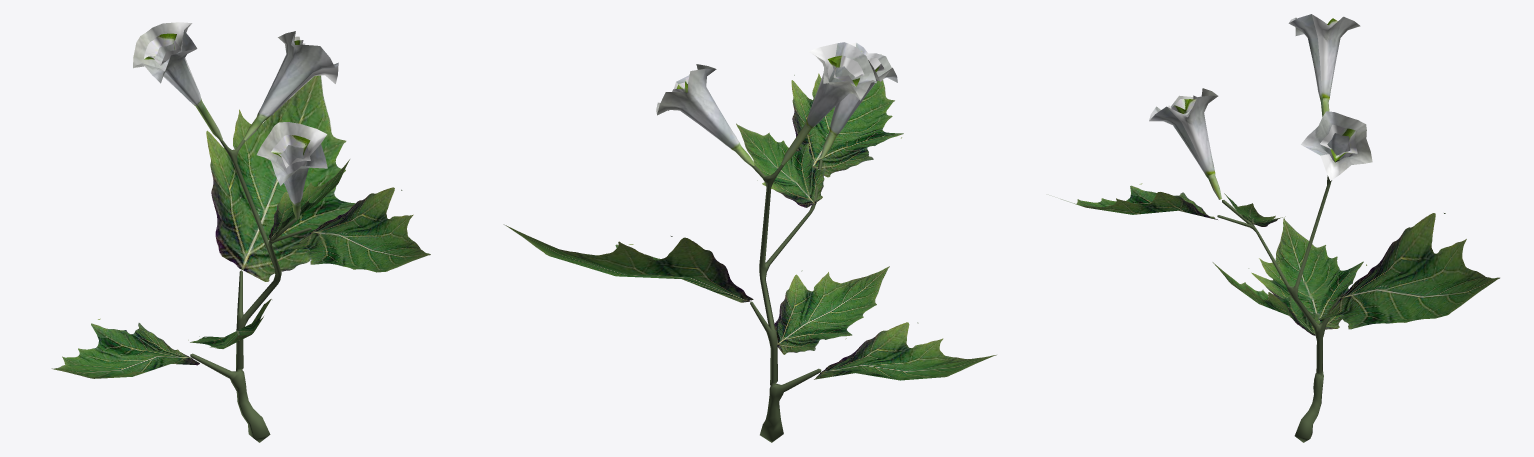
File: Kecubung.fbx
The picture shows the model from 3 angles, left to right: view 1: azimuth 30°, elevation 25°; view 2: azimuth 150°, elevation 25°; view 3: azimuth 270°, elevation 25°; orthographic projection. The views are drawn at different scales.
Visible parts, largest first — view 1: kecubungterompet; view 2: kecubungterompet; view 3: kecubungterompet.
Part boxes in pixels (left/top/right/bottom): kecubungterompet: left=51, top=22, right=430, bottom=442; kecubungterompet: left=503, top=42, right=996, bottom=442; kecubungterompet: left=1061, top=14, right=1499, bottom=442.
Bounding box in the file's own units: 371 × 337 × 372.
